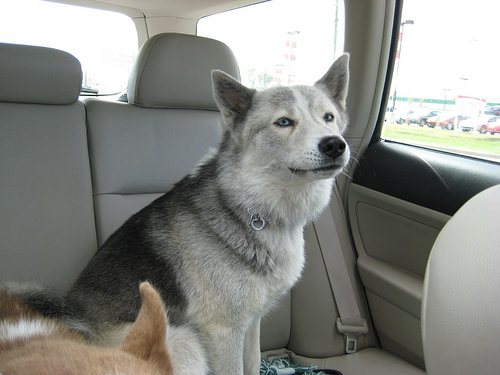dog: (60, 51, 349, 374)
